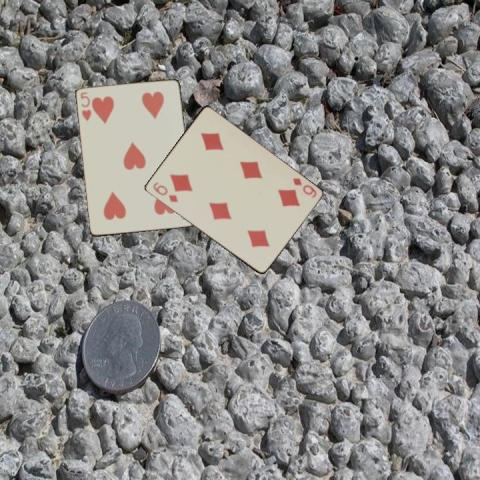5h: (78, 89, 93, 123)
6d: (150, 179, 180, 204), (289, 175, 318, 199)
